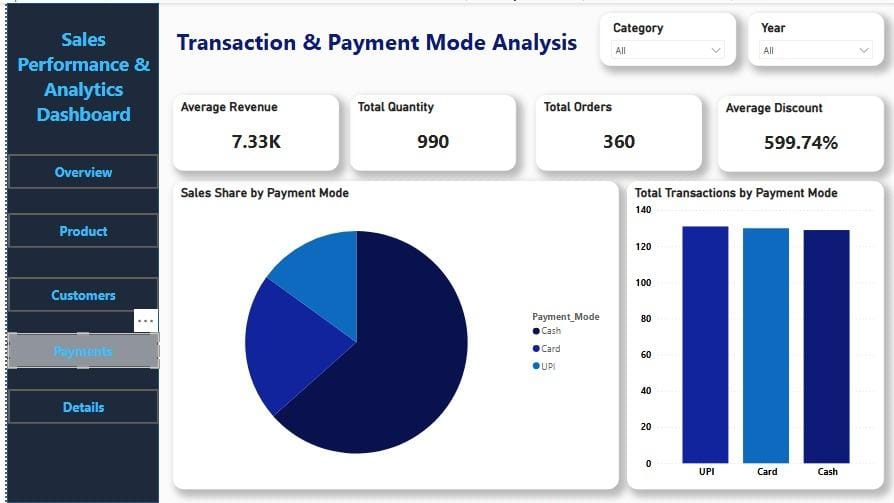

Layout of this report page (visuals, bound fields, positions):
{"tool":"powerbi","page":{"name":"Payment","canvas":[1280,720],"ordinal":3},"visuals":[{"type":"shape","box":[0,0,218.9,720],"z":0},{"type":"actionButton","box":[1.4,217.4,217.4,50.4],"z":1000},{"type":"actionButton","box":[1.4,302.4,217.4,50.4],"z":2000},{"type":"actionButton","box":[1.4,394.6,217.4,50.4],"z":3000},{"type":"actionButton","box":[1.4,475.2,217.4,50.4],"z":4000},{"type":"actionButton","box":[1.4,555.8,217.4,50.4],"z":5000},{"type":"textbox","box":[1.4,27.4,217.4,159.8],"z":6000},{"type":"textbox","box":[239,27.4,596.2,63.4],"z":7000},{"type":"slicer","fields":{"Values":["Sales_Data_Analysis_2025.Year"]},"box":[1067,14.4,195.8,76.3],"z":8000},{"type":"slicer","fields":{"Values":["Sales_Data_Analysis_2025.Category"]},"box":[853.9,14.4,195.8,76.3],"z":9000},{"type":"cardVisual","title":"Total Quantity","fields":{"Data":["Sum(Sales_Data_Analysis_2025.Quantity)"]},"box":[493.9,132.5,239,109.4],"z":11000},{"type":"cardVisual","title":"Total Orders","fields":{"Data":["Count(Sales_Data_Analysis_2025.Order_ID)"]},"box":[761.8,132.5,239,109.4],"z":12000},{"type":"cardVisual","title":"Average Discount","fields":{"Data":["Avg(Sales_Data_Analysis_2025.Discount)"]},"box":[1023.8,133.9,239,109.4],"z":13000},{"type":"pieChart","title":"Sales Share by Payment Mode","fields":{"Category":["Sales_Data_Analysis_2025.Payment_Mode"],"Y":["Sum(Sales_Data_Analysis_2025.Sales)"]},"box":[239,256.3,642.2,443.5],"z":14000},{"type":"clusteredColumnChart","title":"Total Transactions by Payment Mode","fields":{"Category":["Sales_Data_Analysis_2025.Payment_Mode"],"Y":["CountNonNull(Sales_Data_Analysis_2025.Order_ID)"]},"box":[892.8,256.3,370.1,443.5],"z":15000},{"type":"cardVisual","title":"Average Revenue ","fields":{"Data":["Avg(Sales_Data_Analysis_2025.Sales)"]},"box":[239,132.5,239,109.4],"z":15001}]}

Visuals, with their boxes in screenshot pixels (x1, y1, x2, y2), scaled from the page's 1280x720 canvas onto the 894x503 screenshot:
shape: pyautogui.locateOnScreen(0, 0, 153, 502)
actionButton: pyautogui.locateOnScreen(1, 152, 153, 187)
actionButton: pyautogui.locateOnScreen(1, 211, 153, 246)
actionButton: pyautogui.locateOnScreen(1, 276, 153, 311)
actionButton: pyautogui.locateOnScreen(1, 332, 153, 367)
actionButton: pyautogui.locateOnScreen(1, 388, 153, 423)
textbox: pyautogui.locateOnScreen(1, 19, 153, 131)
textbox: pyautogui.locateOnScreen(167, 19, 583, 63)
slicer - Sales_Data_Analysis_2025.Year: pyautogui.locateOnScreen(745, 10, 882, 63)
slicer - Sales_Data_Analysis_2025.Category: pyautogui.locateOnScreen(596, 10, 733, 63)
"Total Quantity" cardVisual: pyautogui.locateOnScreen(345, 93, 512, 169)
"Total Orders" cardVisual: pyautogui.locateOnScreen(532, 93, 699, 169)
"Average Discount" cardVisual: pyautogui.locateOnScreen(715, 94, 882, 170)
"Sales Share by Payment Mode" pieChart: pyautogui.locateOnScreen(167, 179, 615, 489)
"Total Transactions by Payment Mode" clusteredColumnChart: pyautogui.locateOnScreen(624, 179, 882, 489)
"Average Revenue " cardVisual: pyautogui.locateOnScreen(167, 93, 334, 169)
